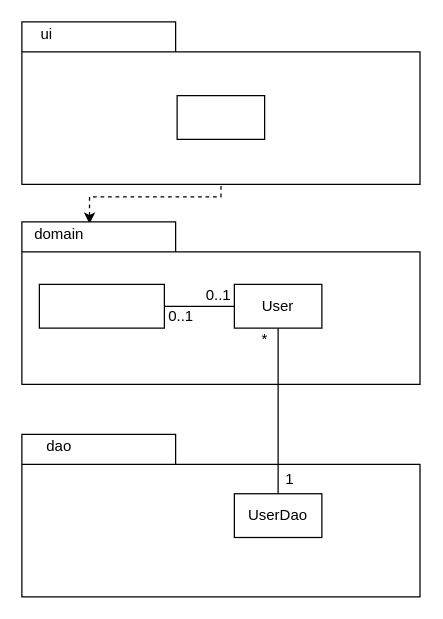
Some shapes in this 443 by 619 pixel diagram are drawn without their labels. Each missing label, with the box of its shape:
ItEnglishService: (38, 283, 164, 328)
ItEnglishUi: (176, 94, 265, 139)
